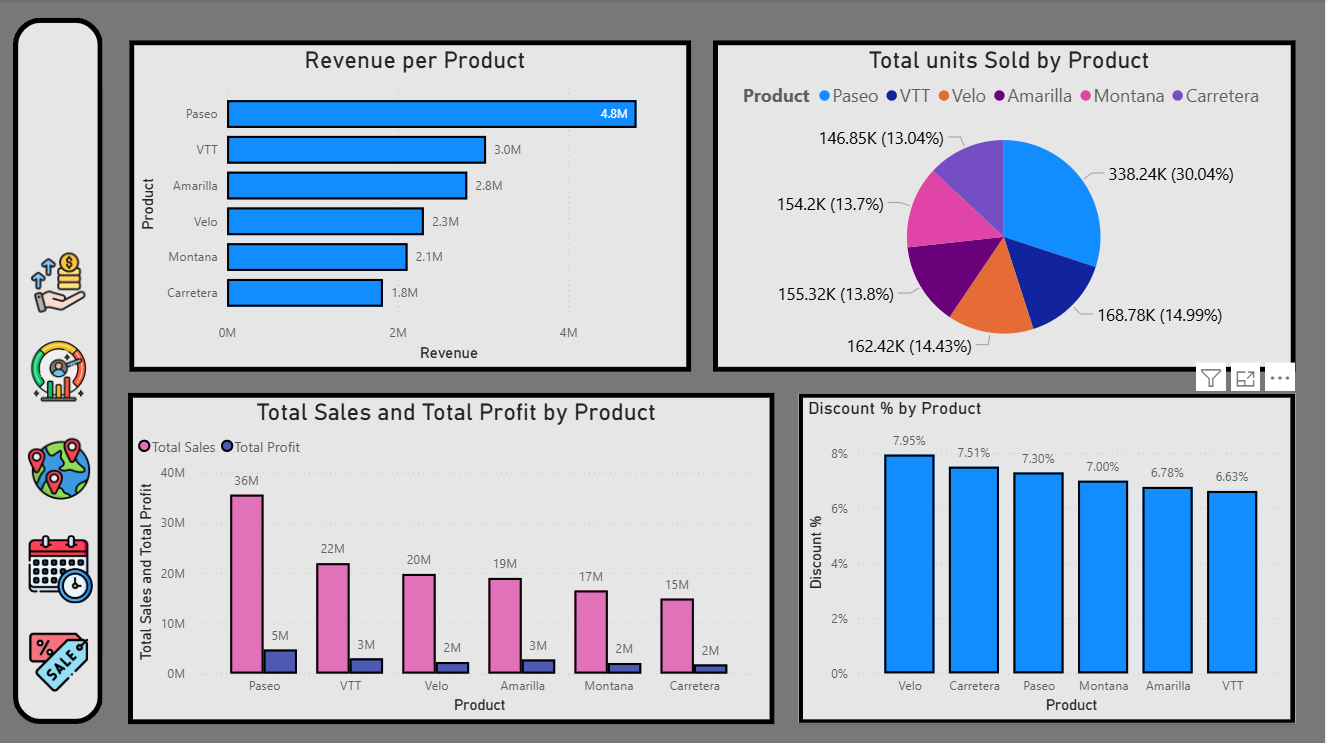

What the dashboard file says about the page in this screenshot:
{"tool":"powerbi","page":{"name":"Product Performance","canvas":[1280,720],"ordinal":1},"visuals":[{"type":"shape","box":[15,18.3,86.7,681.7],"z":0},{"type":"image","box":[21.7,418.3,75,70],"z":1000},{"type":"image","box":[23.3,325,71.7,70],"z":2000},{"type":"image","box":[21.7,238.3,73.3,70],"z":3000},{"type":"image","box":[23.3,513.3,75,75],"z":4000},{"type":"image","box":[20,606.7,76.7,66.7],"z":5000},{"type":"clusteredBarChart","title":"Revenue per Product","fields":{"Category":["financials.Product"],"Y":["Measure Table.Revenue per product"]},"box":[126.4,40,542,320],"z":6000},{"type":"clusteredColumnChart","fields":{"Category":["financials.Product"],"Y":["Measure Table.Total Sales","Measure Table.Total Profit"]},"box":[126,380,624,320],"z":7000},{"type":"pieChart","fields":{"Y":["Measure Table.Total units Sold"],"Category":["financials.Product"]},"box":[690,40,562,320],"z":8000},{"type":"clusteredColumnChart","fields":{"Category":["financials.Product"],"Y":["Measure Table.Discount %"]},"box":[772,380,480,320],"z":9000}]}

Visuals, with their boxes in screenshot pixels (x1, y1, x2, y2), scaled from the page's 1280x720 canvas onto the 1327x743 screenshot:
shape: (16,19,105,722)
image: (22,432,100,504)
image: (24,335,98,408)
image: (22,246,98,318)
image: (24,530,102,607)
image: (21,626,100,695)
"Revenue per Product" clusteredBarChart: (131,41,693,372)
clusteredColumnChart - financials.Product x Measure Table.Total Sales: (131,392,778,722)
pieChart - Measure Table.Total units Sold x financials.Product: (715,41,1298,372)
clusteredColumnChart - financials.Product x Measure Table.Discount %: (800,392,1298,722)
